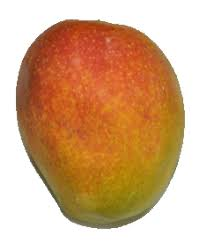mango: (12, 15, 191, 230)
